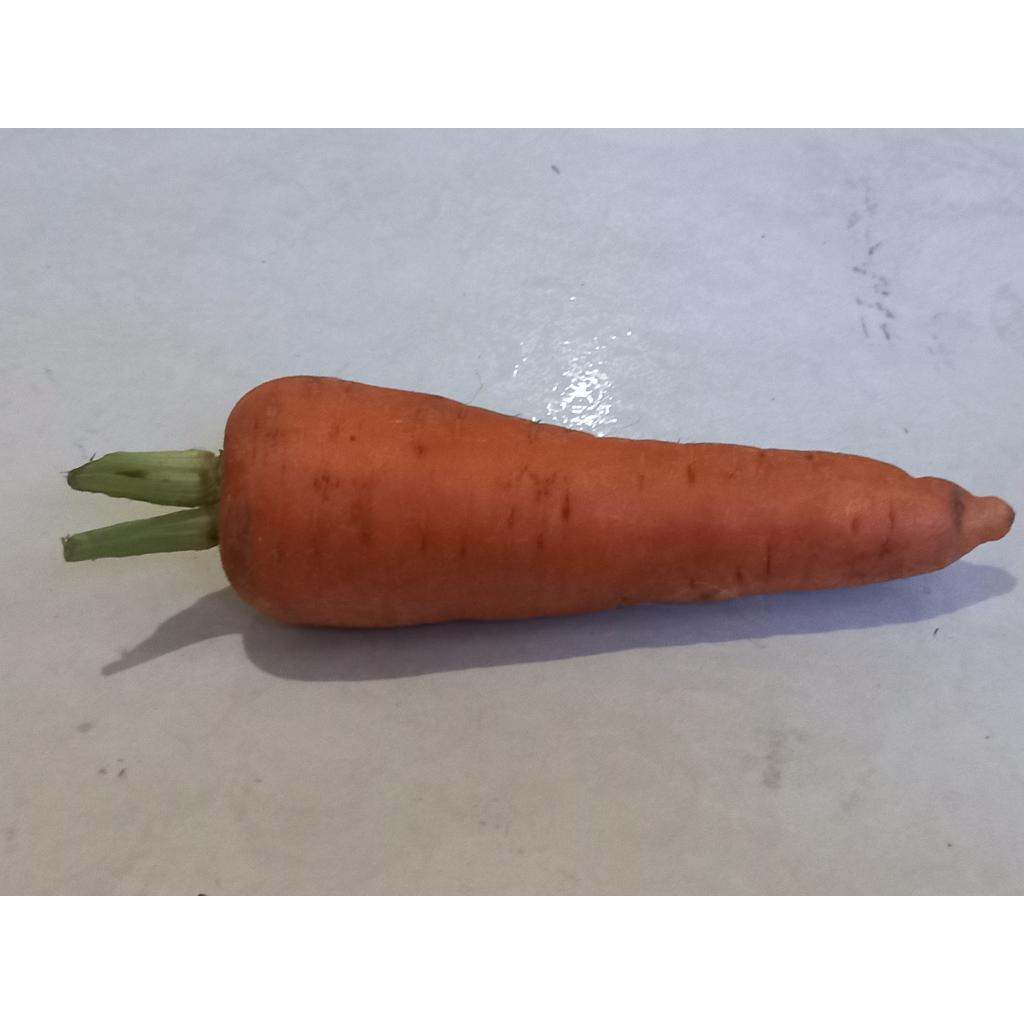carrot: (220, 376, 1014, 626)
